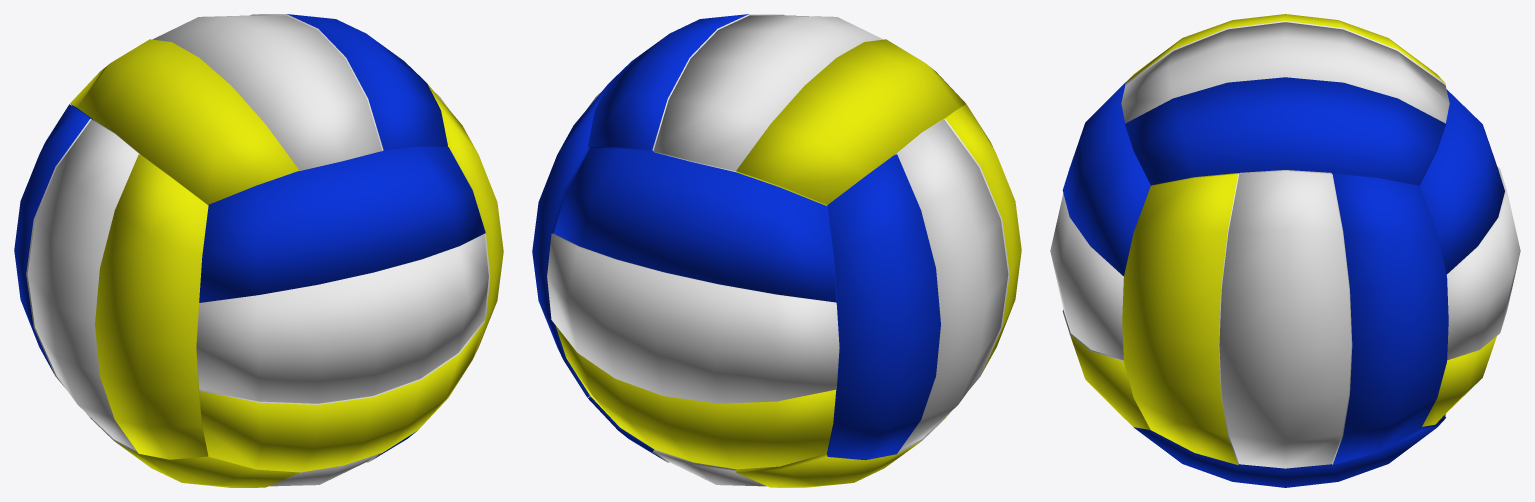
The picture shows the model from 3 angles, left to right: view 1: azimuth 30°, elevation 25°; view 2: azimuth 150°, elevation 25°; view 3: azimuth 270°, elevation 25°; orthographic projection. The views are drawn at different scales.
Visible parts, largest first — view 1: Cube; view 2: Cube; view 3: Cube.
Part boxes in pixels (<box>): Cube: <box>14,14,503,487</box>; Cube: <box>532,14,1021,487</box>; Cube: <box>1050,14,1520,487</box>.
Size of the model in its own units: 0.7311 by 0.7311 by 0.7311.
